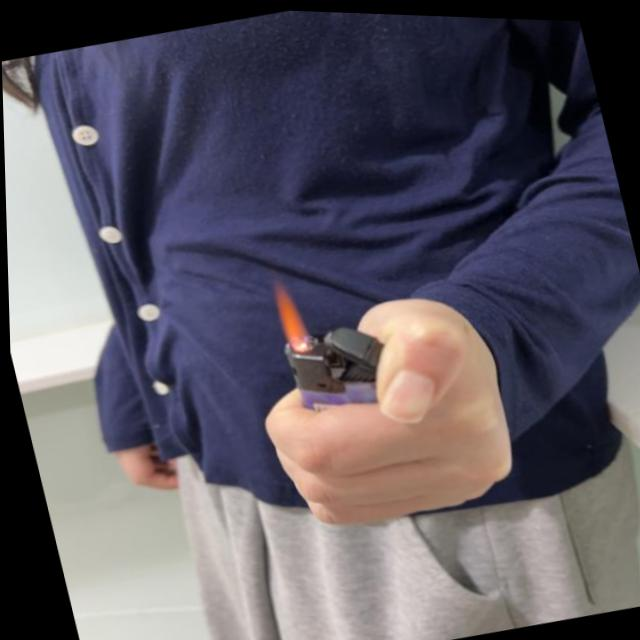Fire: (269, 271, 315, 354)
